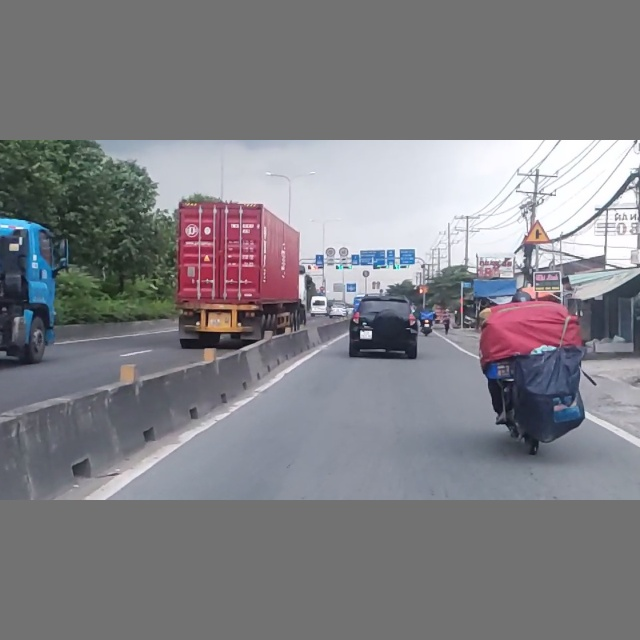P.127*60: (337, 246, 350, 259)
W.207: (523, 219, 551, 244)
